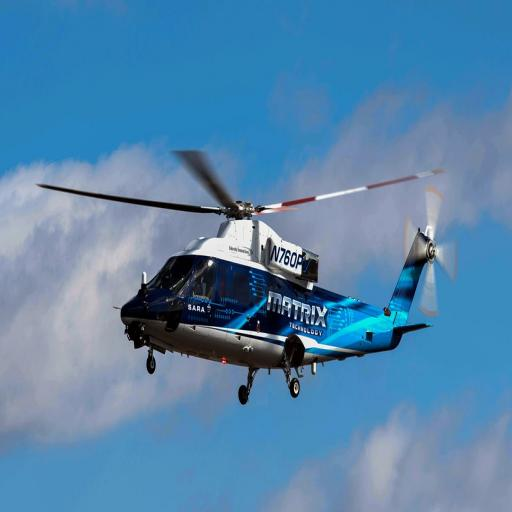helicopter: (36, 148, 459, 406)
